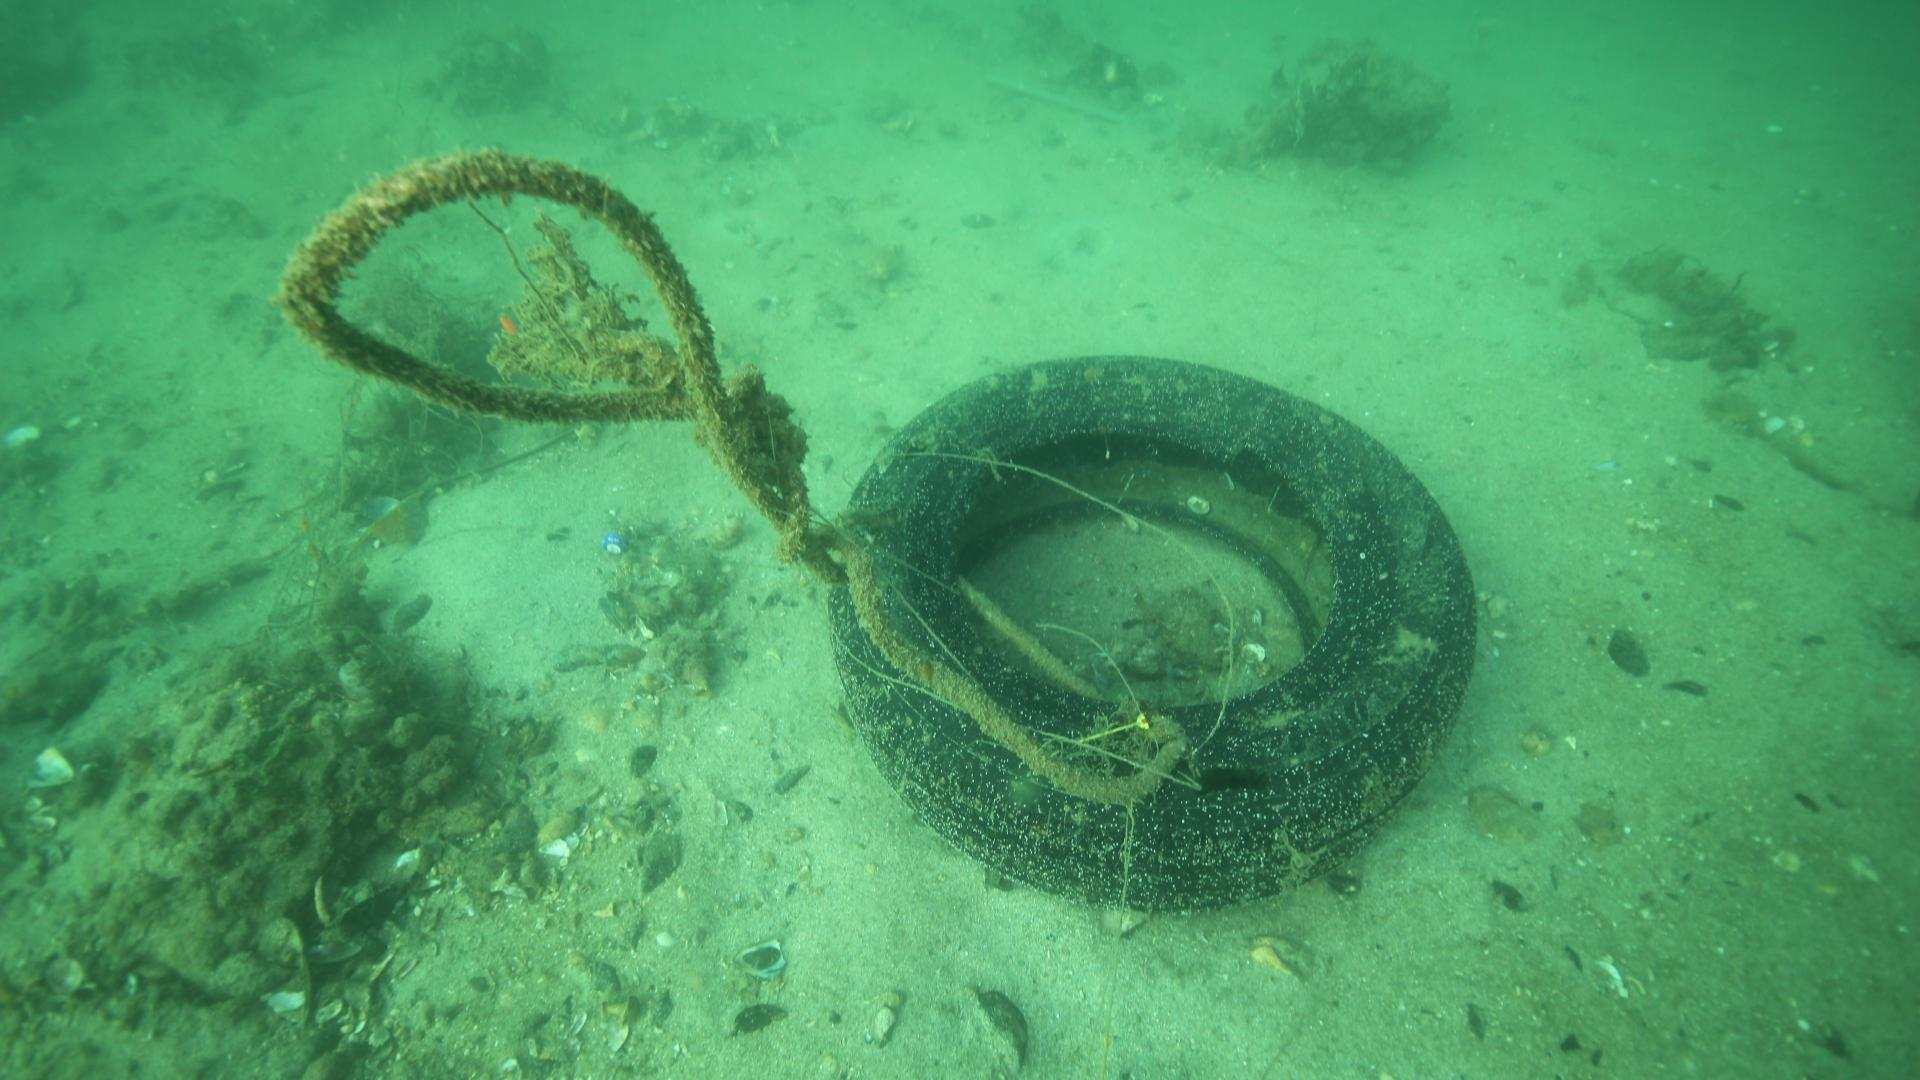bundle of ropes: (280, 145, 1188, 800)
tire: (829, 353, 1478, 911)
